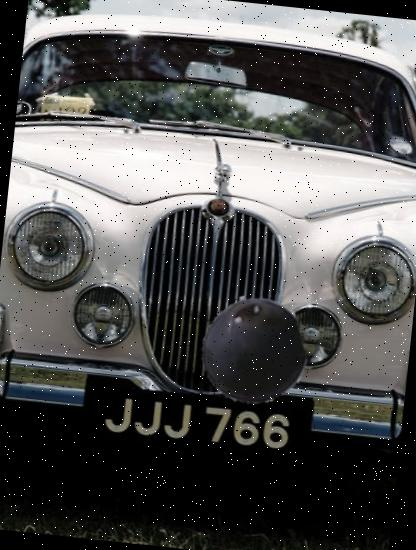Grape: (192, 290, 312, 411)
